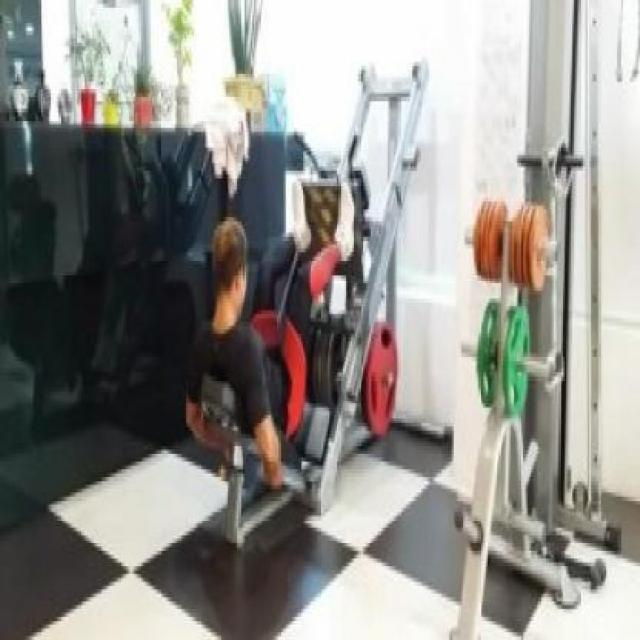leg press: (160, 32, 434, 556)
